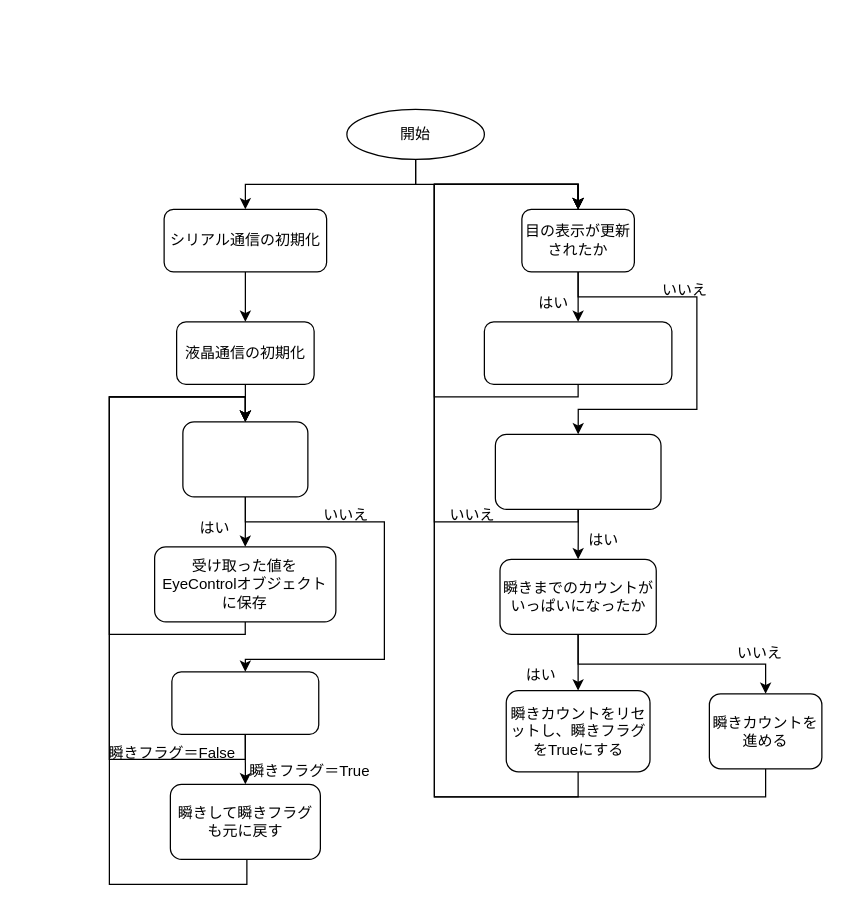
The diagram is 844 pixels wide and 916 high, and some of its shapes have lost their labels. The shapes that lost their labels are listed below. From the top down, each one's centre as x and y in pixels, then its label:
At [577,352]: "瞬きまでの時間と更新有無の保持情報をリセットする".
At [245,459]: "シリアル通信から信号を受信したか".
At [577,471]: "片方でも瞬きする設定になっているか".
At [245,702]: "瞬きフラグを確認".
